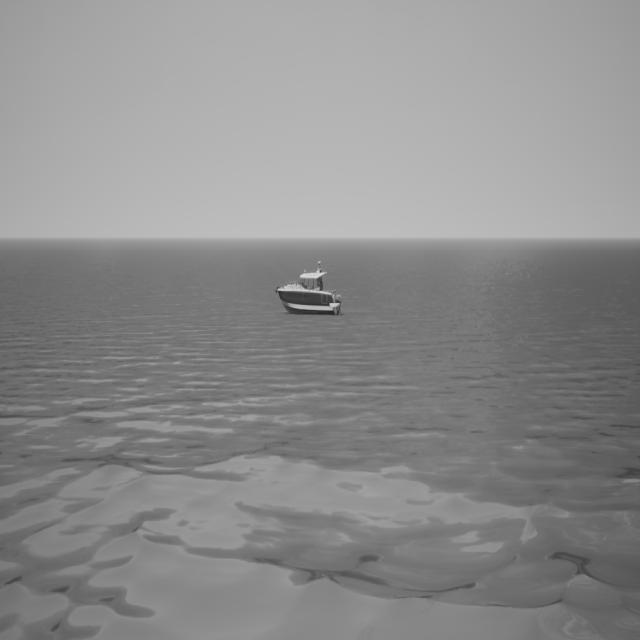ship: (274, 258, 344, 314)
